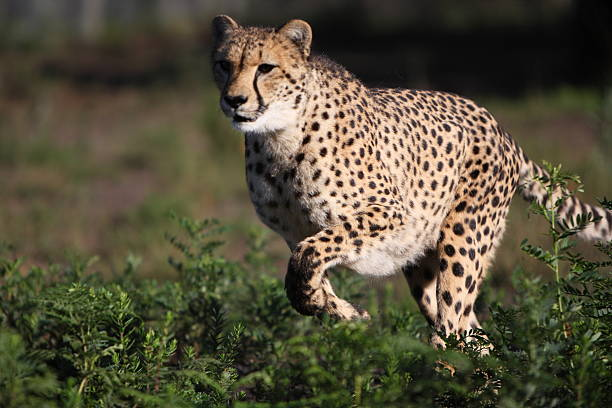cheetah: (197, 8, 323, 135)
